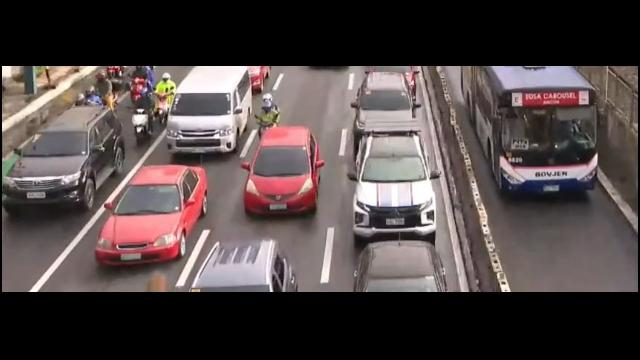bus: (456, 67, 606, 213)
car: (0, 103, 126, 225), (97, 160, 208, 275), (346, 131, 444, 247), (241, 126, 325, 223), (182, 238, 298, 291), (350, 70, 422, 149)
motorcycle: (133, 84, 155, 146), (255, 92, 282, 140), (154, 73, 175, 128), (125, 66, 153, 107), (76, 85, 100, 132), (94, 70, 114, 111)
van: (162, 68, 255, 163)
